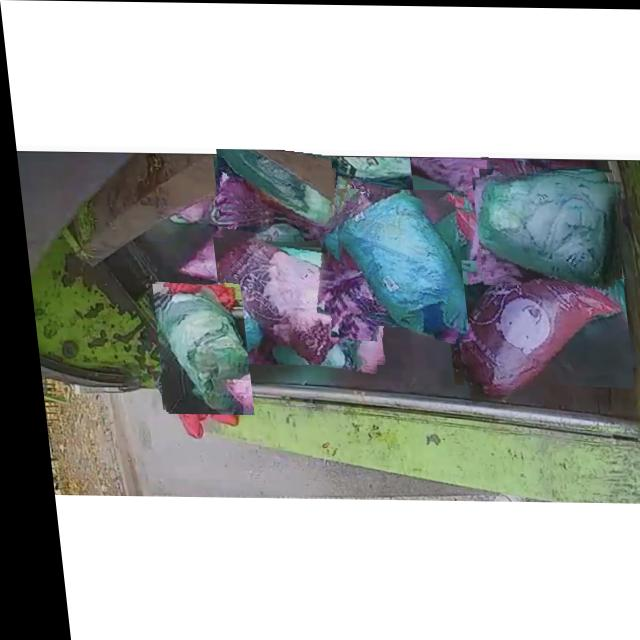general_trashbag: (330, 189, 458, 336), (471, 172, 612, 284), (153, 286, 240, 413), (214, 148, 329, 224)
other_trashbag: (452, 259, 612, 392), (213, 235, 369, 363), (411, 158, 522, 259)
